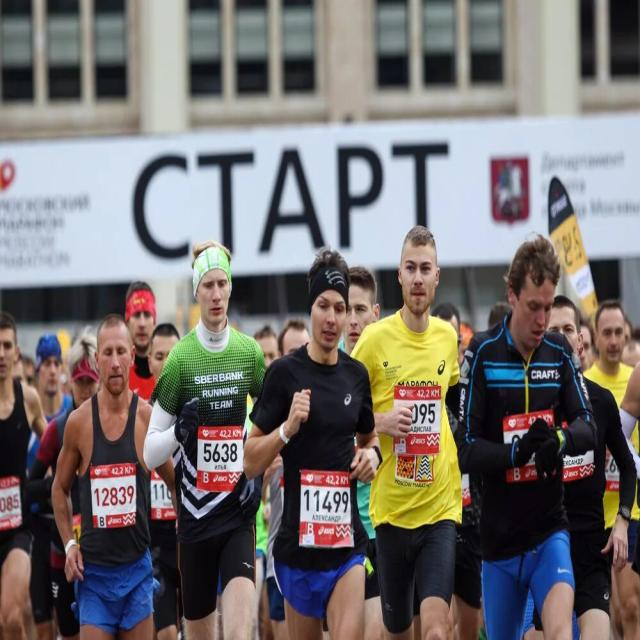Bib: (301, 488, 355, 521), (91, 486, 136, 512), (202, 444, 244, 468)
